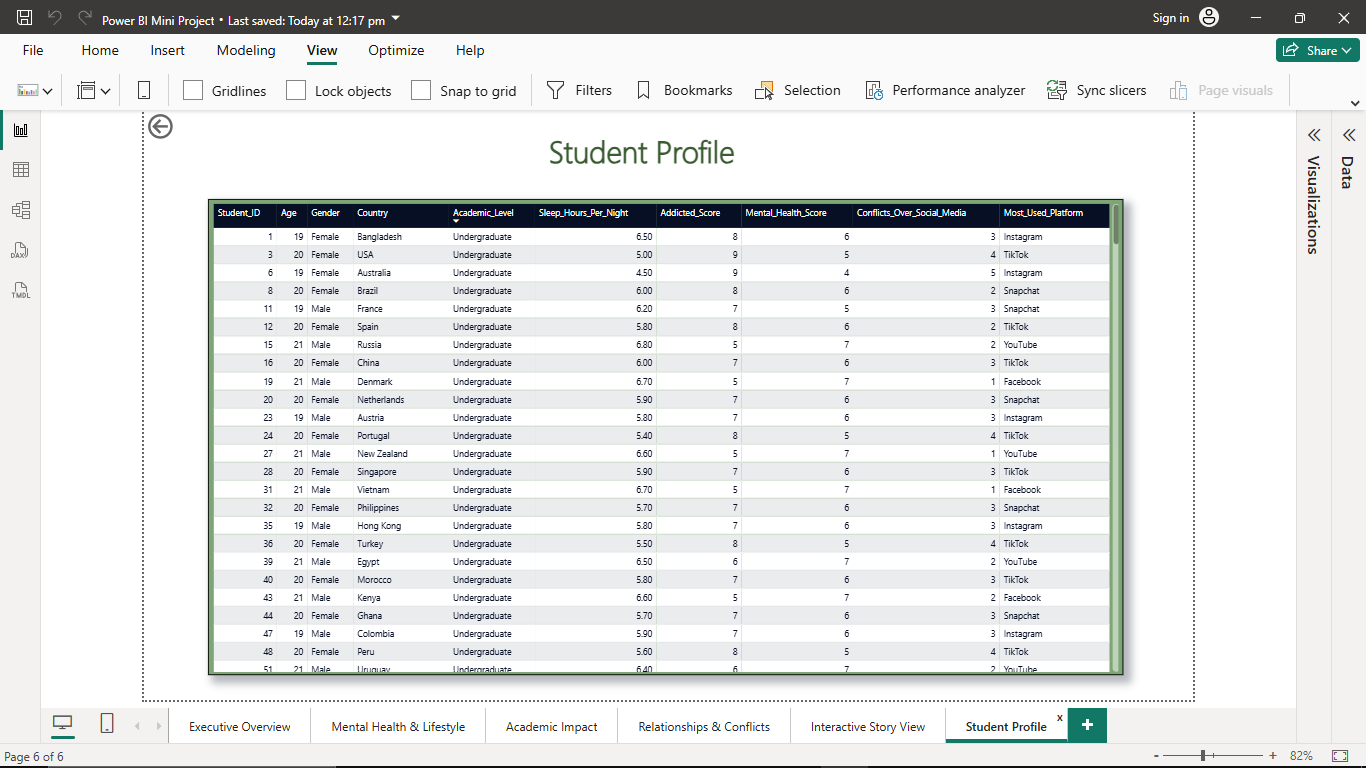

This screenshot's page, from the dashboard's own definition file:
{"tool":"powerbi","page":{"name":"Student Profile ","canvas":[1280,720],"ordinal":5},"visuals":[{"type":"tableEx","fields":{"Values":["Platform Details.Student_ID","Student Details.Age","Student Details.Gender","Student Details.Country","Student Details.Academic_Level","Student Details.Sleep_Hours_Per_Night","Student Details.Addicted_Score","Student Details.Mental_Health_Score","Student Details.Conflicts_Over_Social_Media","Platform Details.Most_Used_Platform"]},"box":[78.6,108.6,1117.1,581.4],"z":0},{"type":"actionButton","box":[0,0,100,40],"z":1000},{"type":"textbox","box":[78.6,20,1068.6,58.6],"z":2000}]}

Visuals, with their boxes on the page's 1280x720 design canvas (x1, y1, x2, y2). These are canvas units, not pixel positions in the 1366x768 screenshot, which may show the page scaled, cropped or inside an application window:
tableEx - Platform Details.Student_ID x Student Details.Age: bbox=[79, 109, 1196, 690]
actionButton: bbox=[0, 0, 100, 40]
textbox: bbox=[79, 20, 1147, 79]
